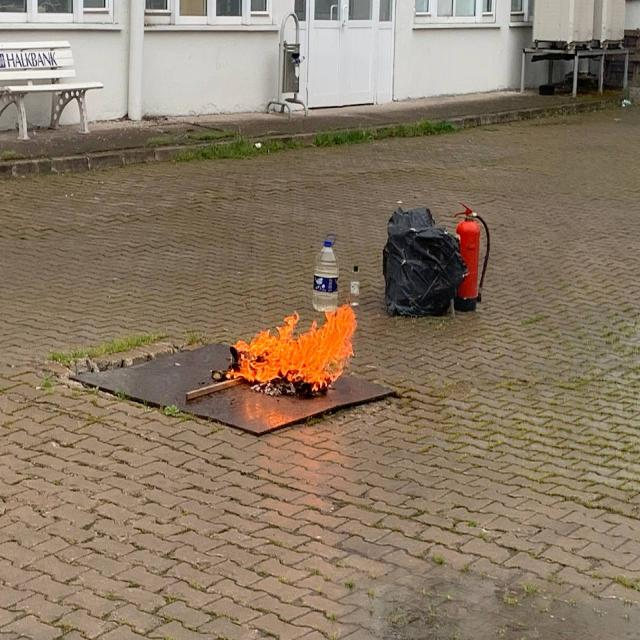fire: (226, 300, 360, 391)
